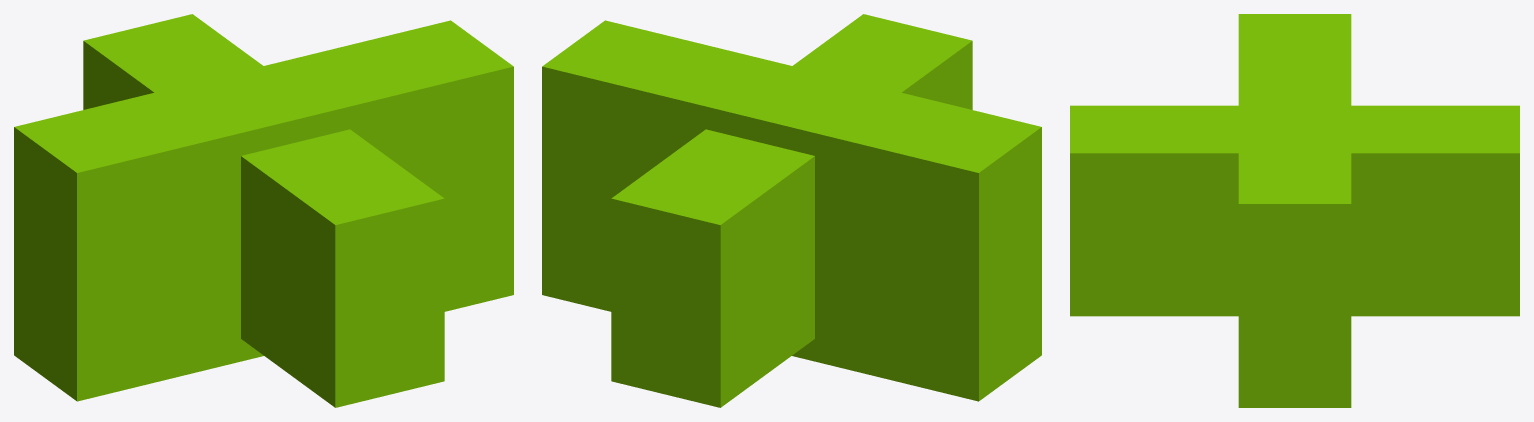
The model's file is Enemy1.fbx.
3 renders of one model, left to right at view 1: azimuth 30°, elevation 25°; view 2: azimuth 150°, elevation 25°; view 3: azimuth 270°, elevation 25°, orthographic. The views are drawn at different scales.
Visible parts, largest first — view 1: Cube.001; view 2: Cube.001; view 3: Cube.001.
Boxes of the visible parts, left/top/right/bottom form: Cube.001: left=14, top=14, right=513, bottom=407; Cube.001: left=542, top=14, right=1041, bottom=407; Cube.001: left=1070, top=14, right=1519, bottom=407.
Bounding box in the file's own units: 400 × 200 × 400.
